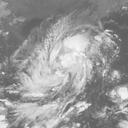cyclone: (17, 26, 114, 125)
